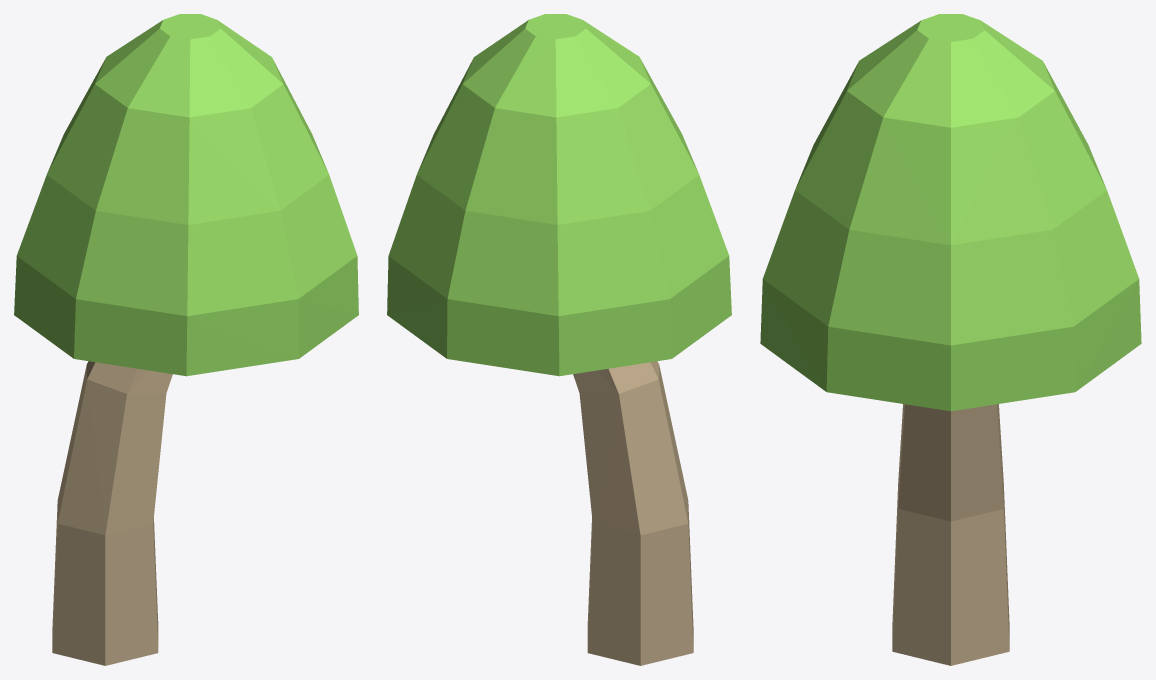
Rendered from mushroom_green.fbx.
The picture shows the model from 3 angles, left to right: view 1: azimuth 30°, elevation 25°; view 2: azimuth 150°, elevation 25°; view 3: azimuth 270°, elevation 25°; orthographic projection. The views are drawn at different scales.
Parts seen in each view (by area): view 1: prop_mushrooms_big_geo_2; view 2: prop_mushrooms_big_geo_2; view 3: prop_mushrooms_big_geo_2.
Part boxes in pixels (bbox=[...]): prop_mushrooms_big_geo_2: bbox=[14, 14, 358, 665]; prop_mushrooms_big_geo_2: bbox=[387, 14, 731, 665]; prop_mushrooms_big_geo_2: bbox=[760, 14, 1141, 665].
Size of the model in its own units: 12.77 by 24.61 by 12.97.
